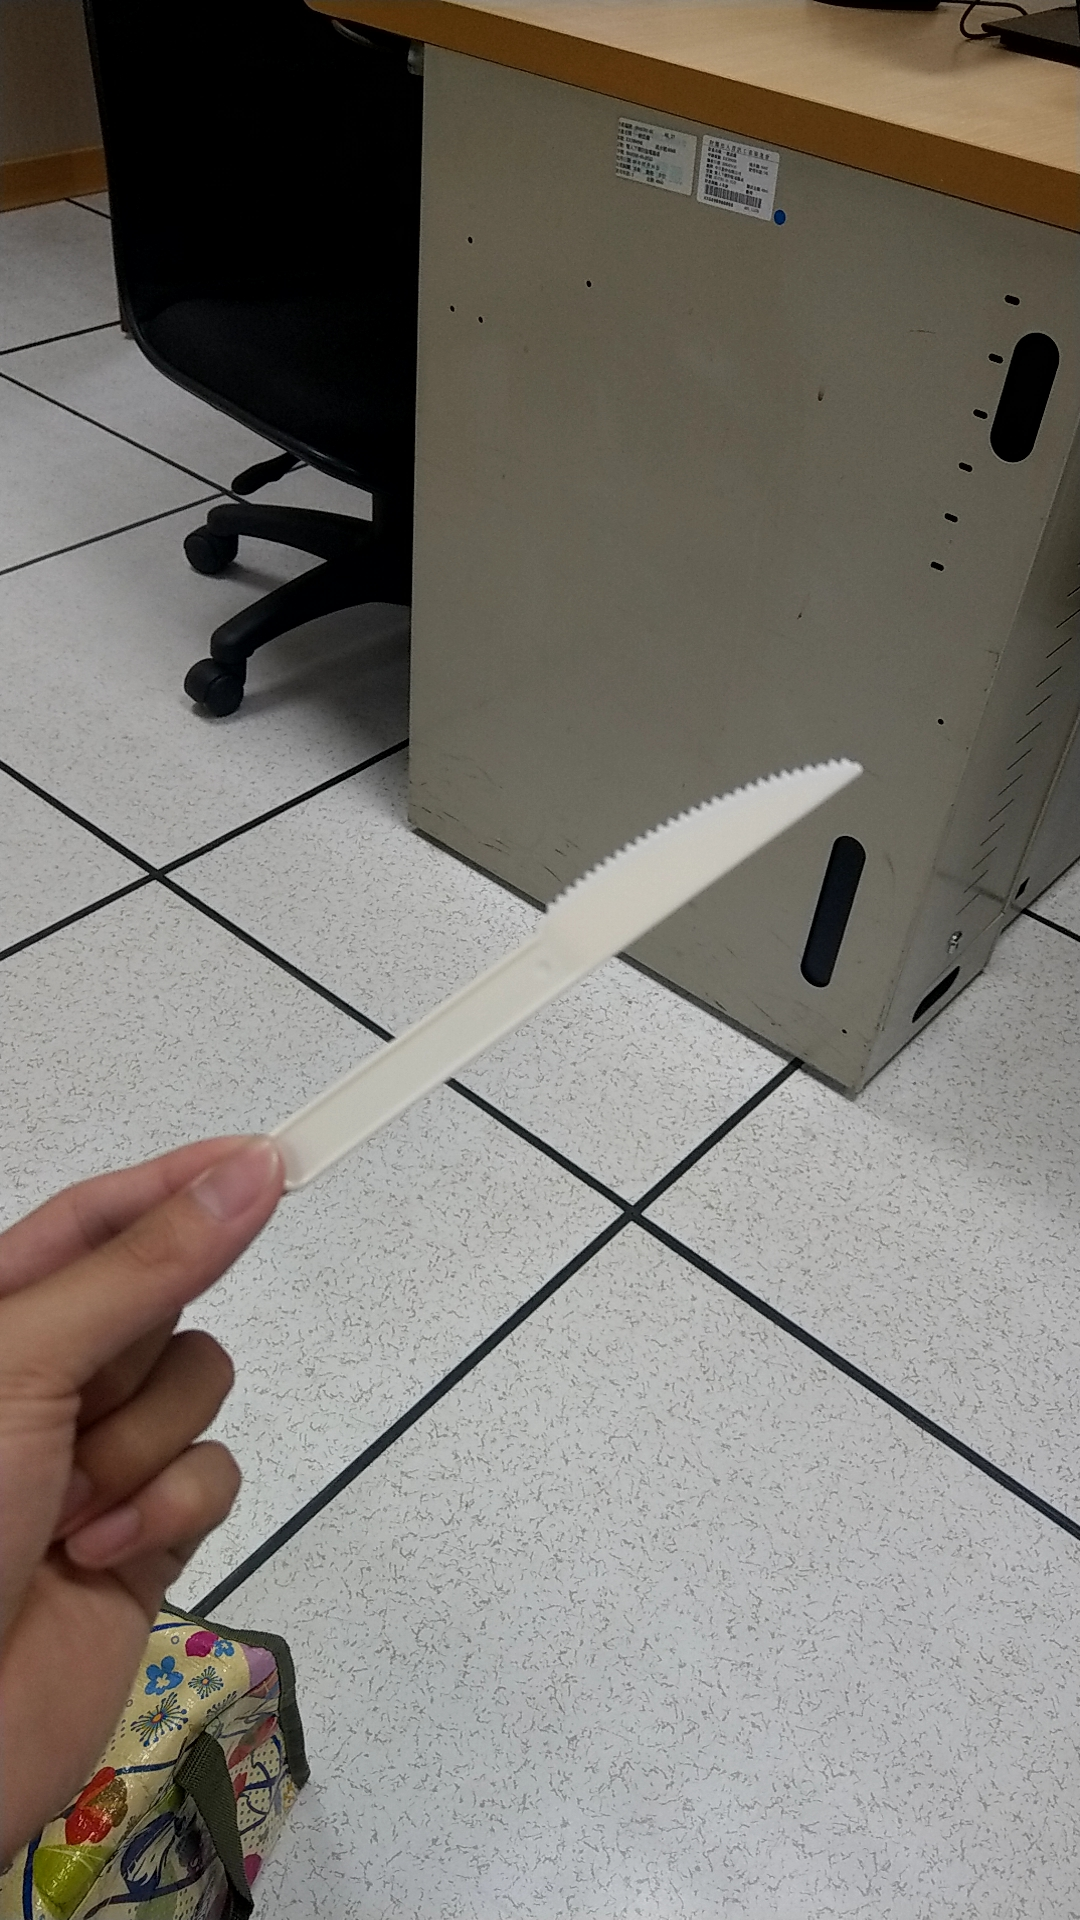knife: (286, 717, 884, 1193)
